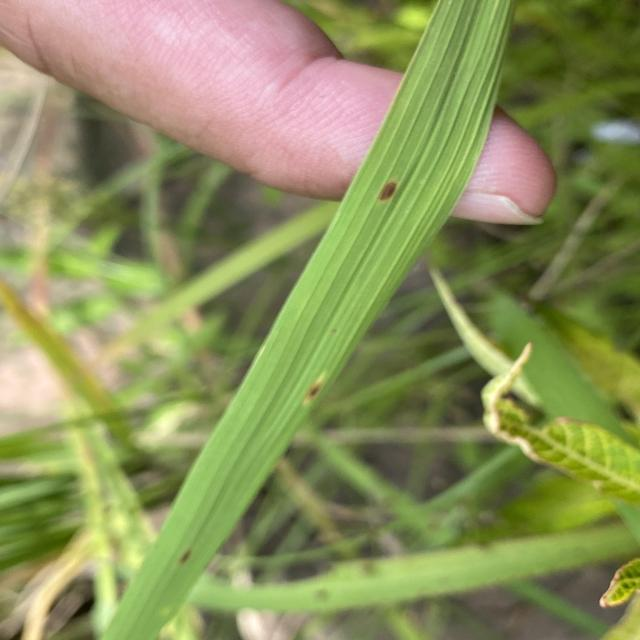Dom nau: (376, 178, 401, 203), (176, 546, 196, 567), (303, 383, 324, 401)
